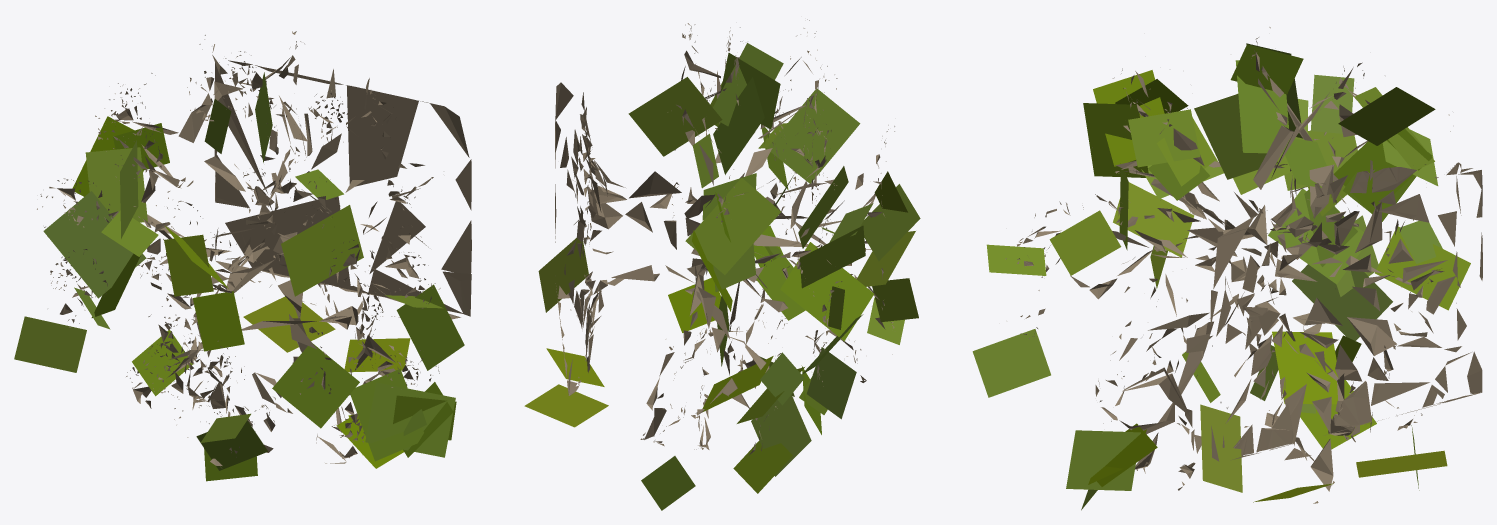
The model's file is tree_medium_ancient_a.glb.
3 renders of one model, left to right at view 1: azimuth 30°, elevation 25°; view 2: azimuth 150°, elevation 25°; view 3: azimuth 270°, elevation 25°, orthographic. The views are drawn at different scales.
Parts seen in each view (by area): view 1: leaves, wood; view 2: leaves, wood; view 3: leaves, wood.
Part boxes in pixels (x1,y1,x2,y2): leaves: [14, 72, 464, 481]; wood: [37, 31, 471, 467]; leaves: [524, 43, 920, 510]; wood: [555, 19, 894, 455]; leaves: [972, 43, 1470, 510]; wood: [1005, 27, 1482, 503].
Bounding box in the file's own units: 11.98 × 12.49 × 12.24.
